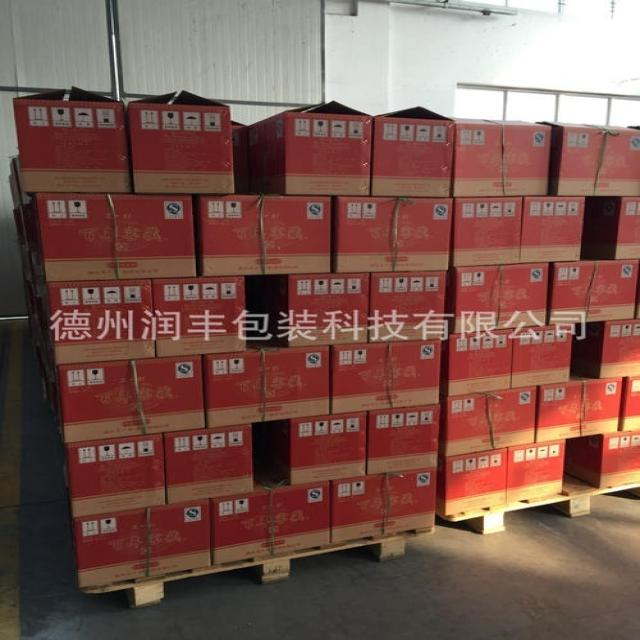box: (31, 194, 197, 283), (49, 356, 205, 444), (13, 85, 132, 200), (72, 500, 211, 587), (210, 474, 332, 565), (127, 90, 233, 194), (198, 195, 332, 276), (202, 346, 329, 428), (264, 100, 372, 196), (44, 280, 156, 365), (335, 197, 452, 273), (330, 341, 442, 415), (67, 434, 166, 517), (452, 118, 552, 198), (151, 276, 248, 358), (332, 468, 438, 542), (371, 107, 454, 198), (538, 122, 640, 196), (163, 423, 255, 504), (448, 263, 549, 334), (447, 386, 538, 456), (535, 372, 622, 443), (547, 259, 639, 325), (287, 273, 369, 347), (369, 271, 447, 343), (291, 412, 366, 485), (366, 405, 440, 475), (435, 447, 507, 516), (454, 197, 522, 266), (518, 197, 586, 263), (564, 429, 640, 488), (448, 329, 513, 396), (512, 323, 575, 389), (507, 440, 566, 505), (584, 197, 640, 259), (599, 319, 640, 378), (620, 375, 640, 432)
